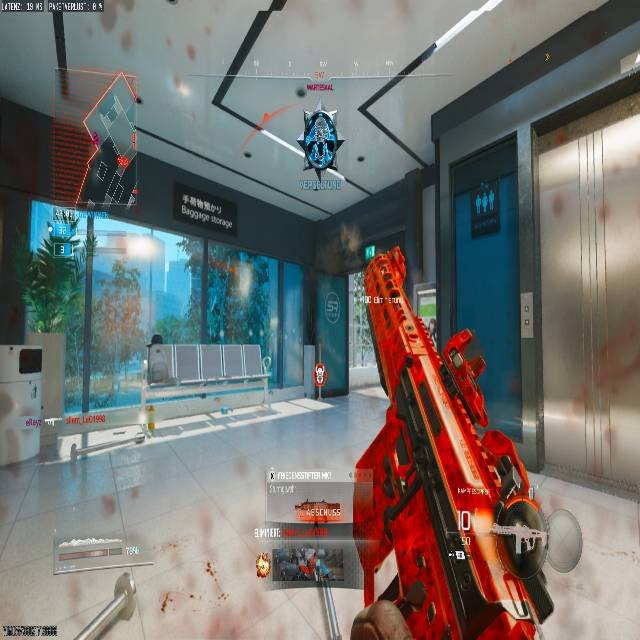player: (302, 109, 340, 182)
